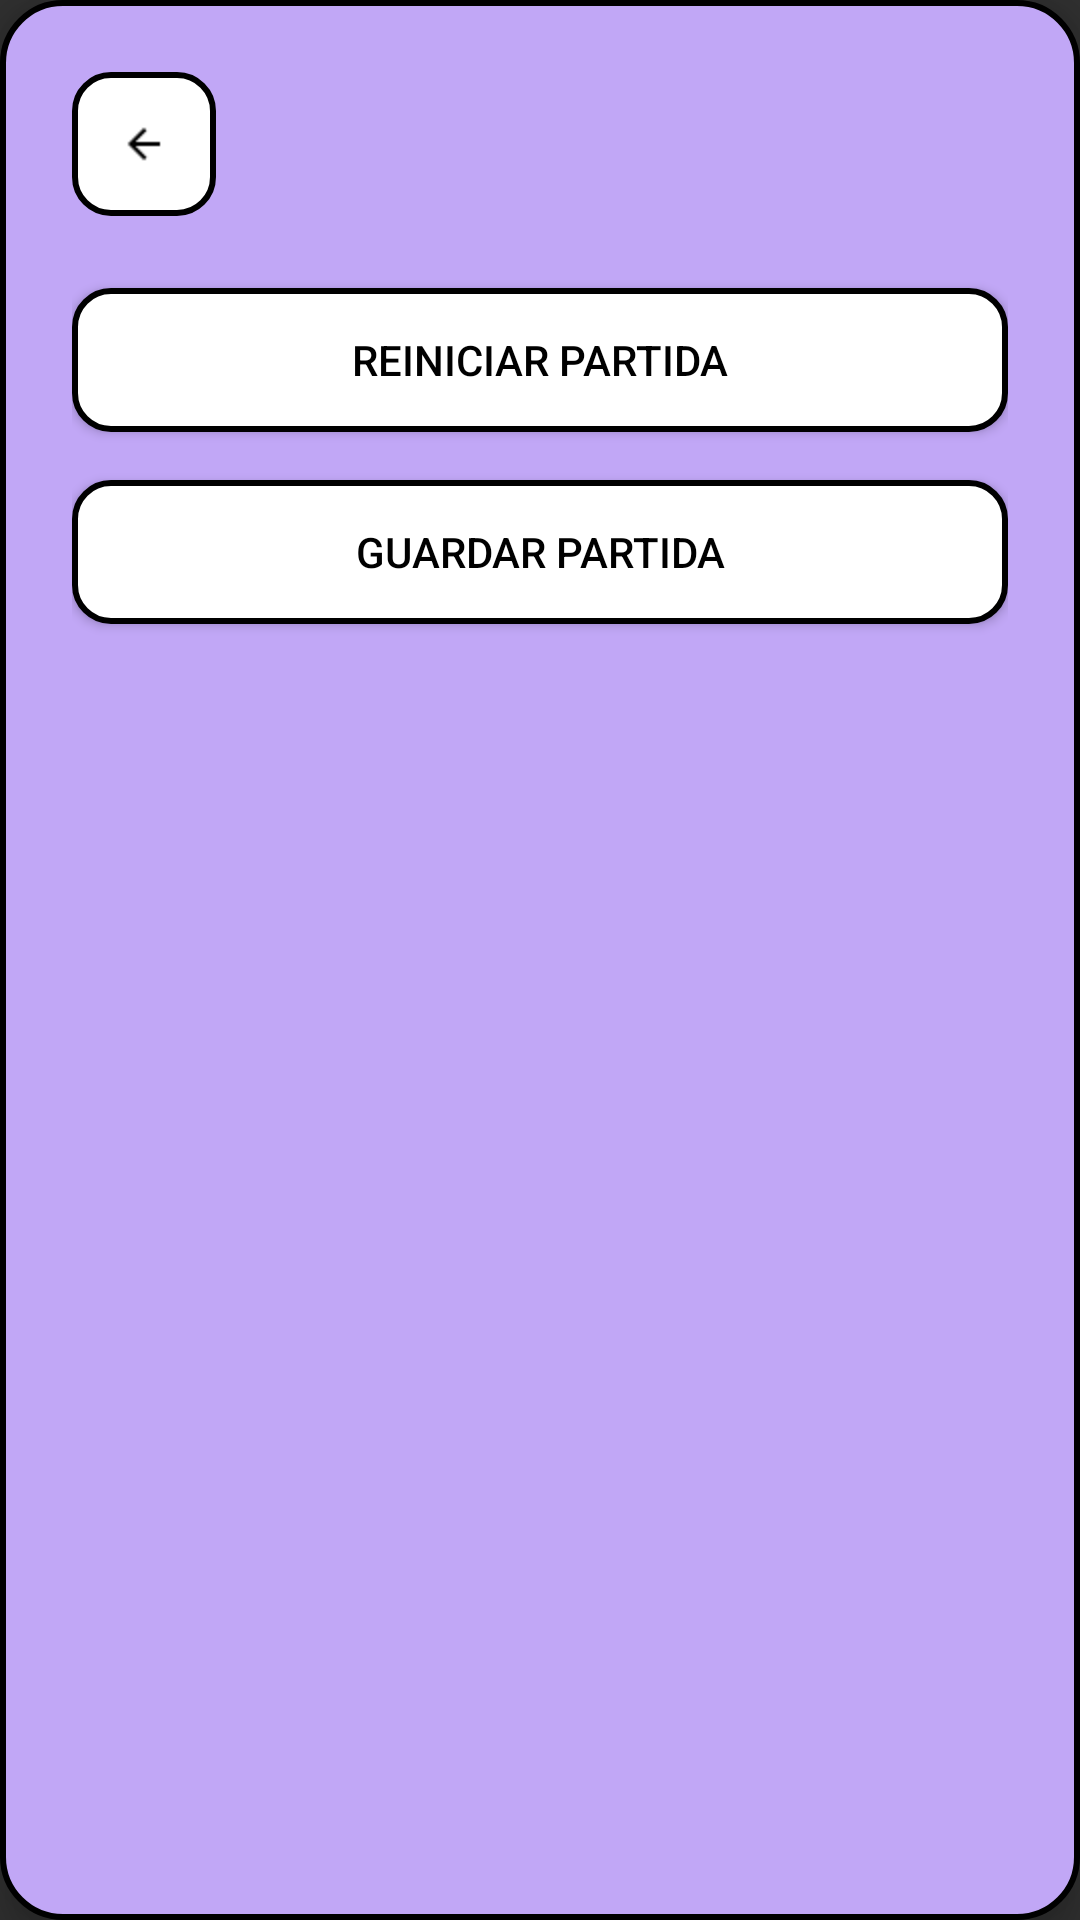

Icons on this 1080 x 1920 Android screen, each with its box as (x1, y1, x2, y2):
Boton para volver artras: (72, 72, 216, 216)
